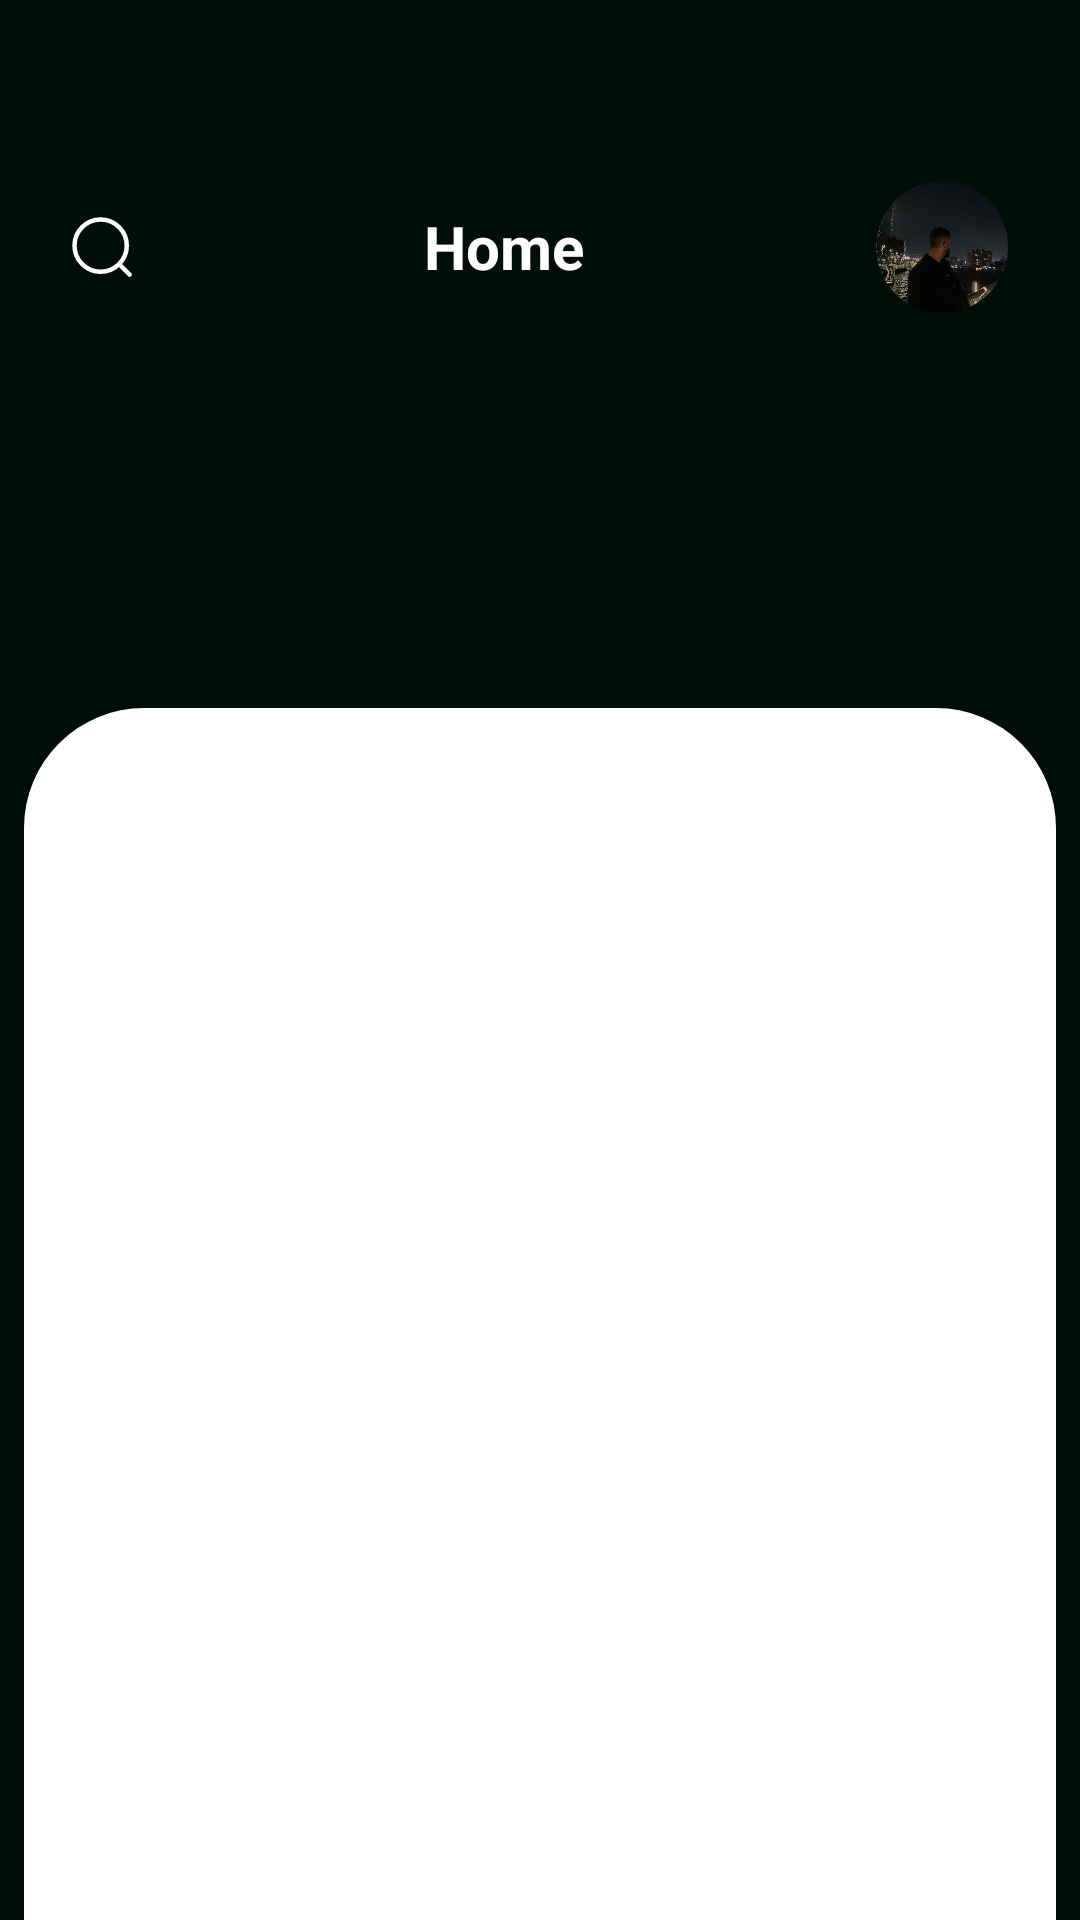

Locate icon controls on the screen. Image size 1080 × 1920, boxes as bbox=(x1, y1, x2, y2).
fragments search: bbox=(72, 217, 132, 277)
profile user: bbox=(876, 181, 1008, 313)
